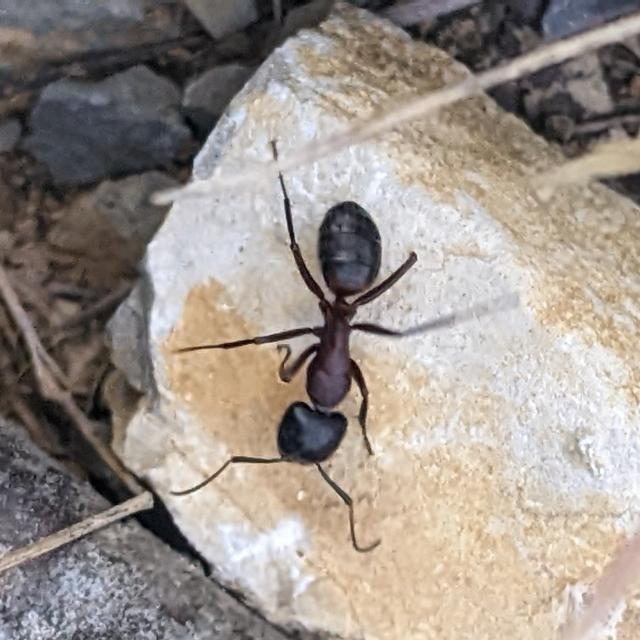Camponotus: (210, 160, 442, 530)
